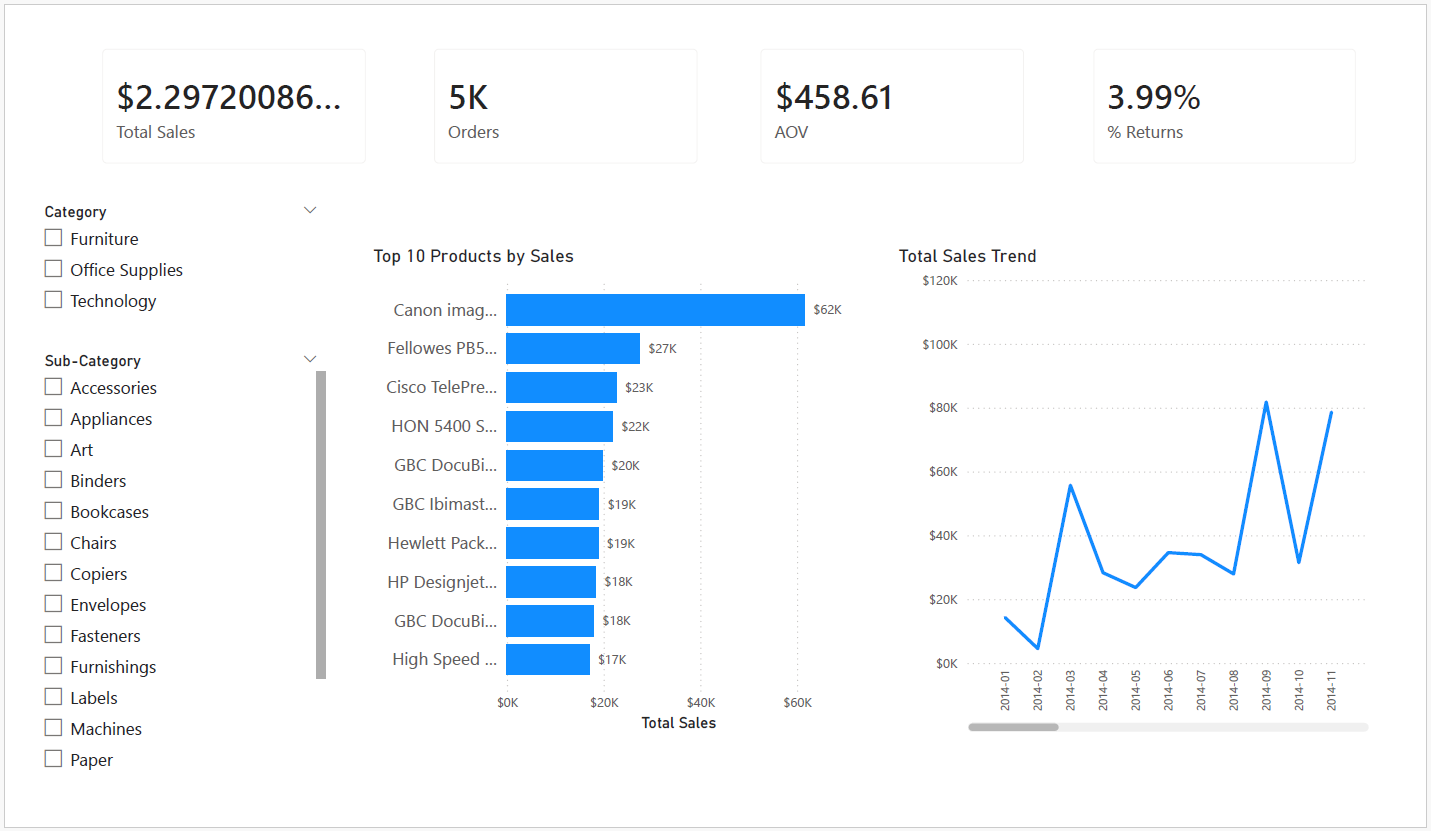

What the dashboard file says about the page in this screenshot:
{"tool":"powerbi","page":{"name":"Product","canvas":[1280,720],"ordinal":2},"visuals":[{"type":"cardVisual","fields":{"Data":["_Measures.Total Sales"]},"box":[50.1,0,279.7,140.6],"z":0},{"type":"cardVisual","fields":{"Data":["_Measures.Orders"]},"box":[360.4,0,279.7,140.6],"z":1000},{"type":"cardVisual","fields":{"Data":["_Measures.AOV"]},"box":[665.2,0,279.7,140.6],"z":2000},{"type":"cardVisual","fields":{"Data":["_Measures.% Returns"]},"box":[975.5,0,279.7,140.6],"z":3000},{"type":"slicer","fields":{"Values":["DimProduct.Category"]},"box":[0,155.9,279.7,139.2],"z":4000},{"type":"slicer","fields":{"Values":["DimProduct.Sub-Category"]},"box":[0,295,279.7,405],"z":5000},{"type":"clusteredBarChart","title":"Top 10 Products by Sales","fields":{"Category":["DimProduct.Product Name"],"Y":["_Measures.Total Sales"]},"box":[314.5,200.4,470.4,459.2],"z":6000},{"type":"lineChart","title":"Total Sales Trend","fields":{"Y":["_Measures.Total Sales"],"Category":["DimDate.Year-Month Text"]},"box":[805.7,200.4,449.5,459.2],"z":7000}]}

Visuals, with their boxes on the page's 1280x720 design canvas (x1, y1, x2, y2). These are canvas units, not pixel positions in the 1431x831 screenshot, which may show the page scaled, cropped or inside an application window:
cardVisual - _Measures.Total Sales: box(50, 0, 330, 141)
cardVisual - _Measures.Orders: box(360, 0, 640, 141)
cardVisual - _Measures.AOV: box(665, 0, 945, 141)
cardVisual - _Measures.% Returns: box(976, 0, 1255, 141)
slicer - DimProduct.Category: box(0, 156, 280, 295)
slicer - DimProduct.Sub-Category: box(0, 295, 280, 700)
"Top 10 Products by Sales" clusteredBarChart: box(314, 200, 785, 660)
"Total Sales Trend" lineChart: box(806, 200, 1255, 660)
